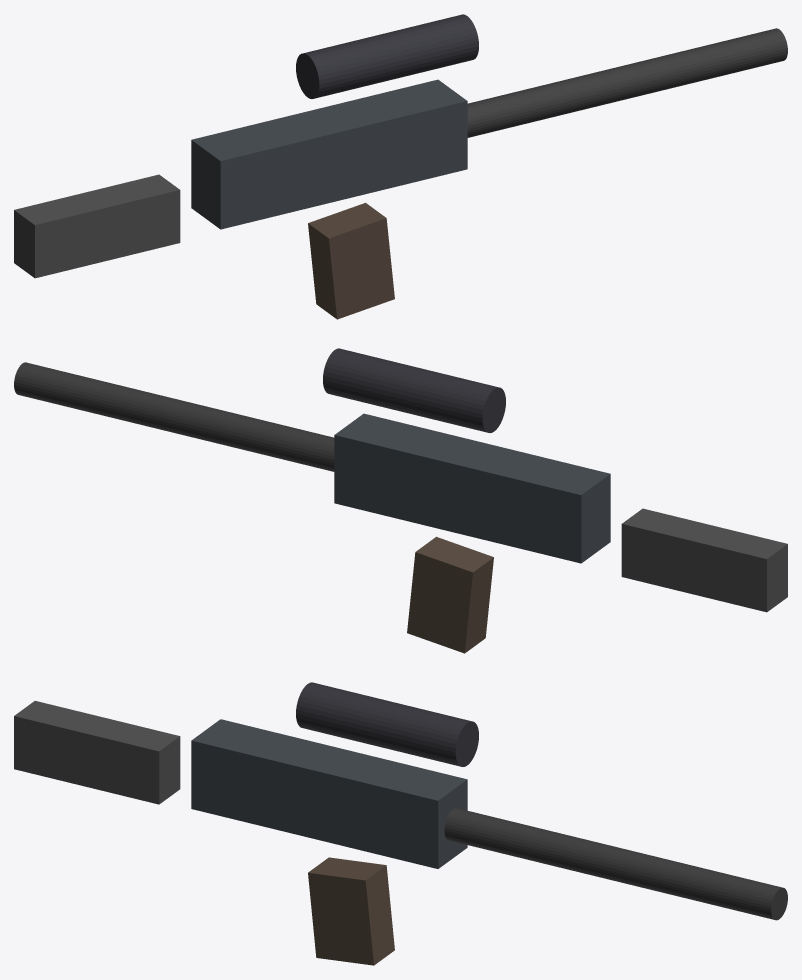
The model's file is francotirador.glb.
The picture shows the model from 3 angles, top to bottom: view 1: azimuth 30°, elevation 25°; view 2: azimuth 150°, elevation 25°; view 3: azimuth 330°, elevation 25°; orthographic projection.
Visible parts, largest first — view 1: Francotirador; view 2: Francotirador; view 3: Francotirador.
Boxes of the visible parts, x1=… form: Francotirador: x1=14, y1=14, x2=787, y2=319; Francotirador: x1=14, y1=348, x2=787, y2=653; Francotirador: x1=14, y1=682, x2=787, y2=965.
Bounding box in the file's own units: 1.04 × 0.3442 × 0.07.
